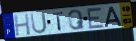A: (104, 6, 123, 28)
E: (86, 7, 106, 30)
H: (13, 13, 32, 37)
Q: (67, 9, 86, 31)
T: (52, 11, 65, 32)
U: (29, 12, 48, 35)
